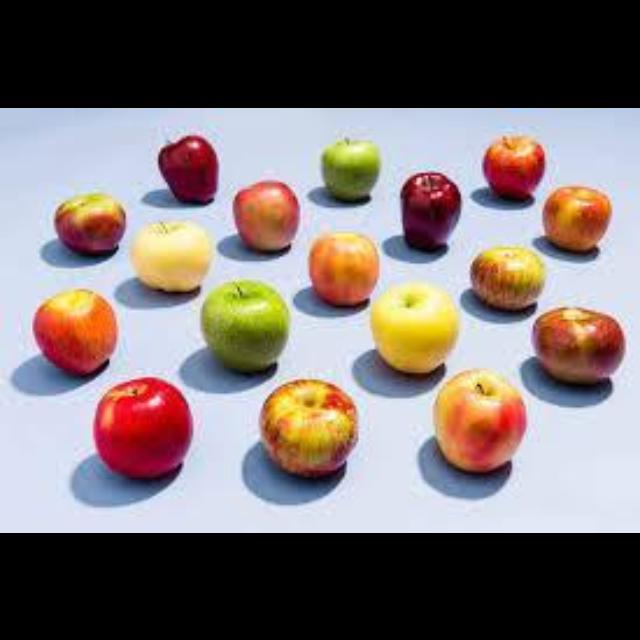apple: (93, 377, 191, 477), (258, 379, 356, 475), (433, 368, 524, 470), (200, 279, 289, 370), (370, 282, 458, 372), (531, 307, 624, 382), (33, 289, 116, 372), (130, 221, 212, 291), (307, 230, 377, 305), (470, 244, 545, 307), (233, 179, 298, 251), (400, 170, 458, 249), (542, 184, 610, 251), (54, 191, 123, 254), (482, 135, 545, 198), (158, 135, 216, 202), (321, 137, 379, 200)
